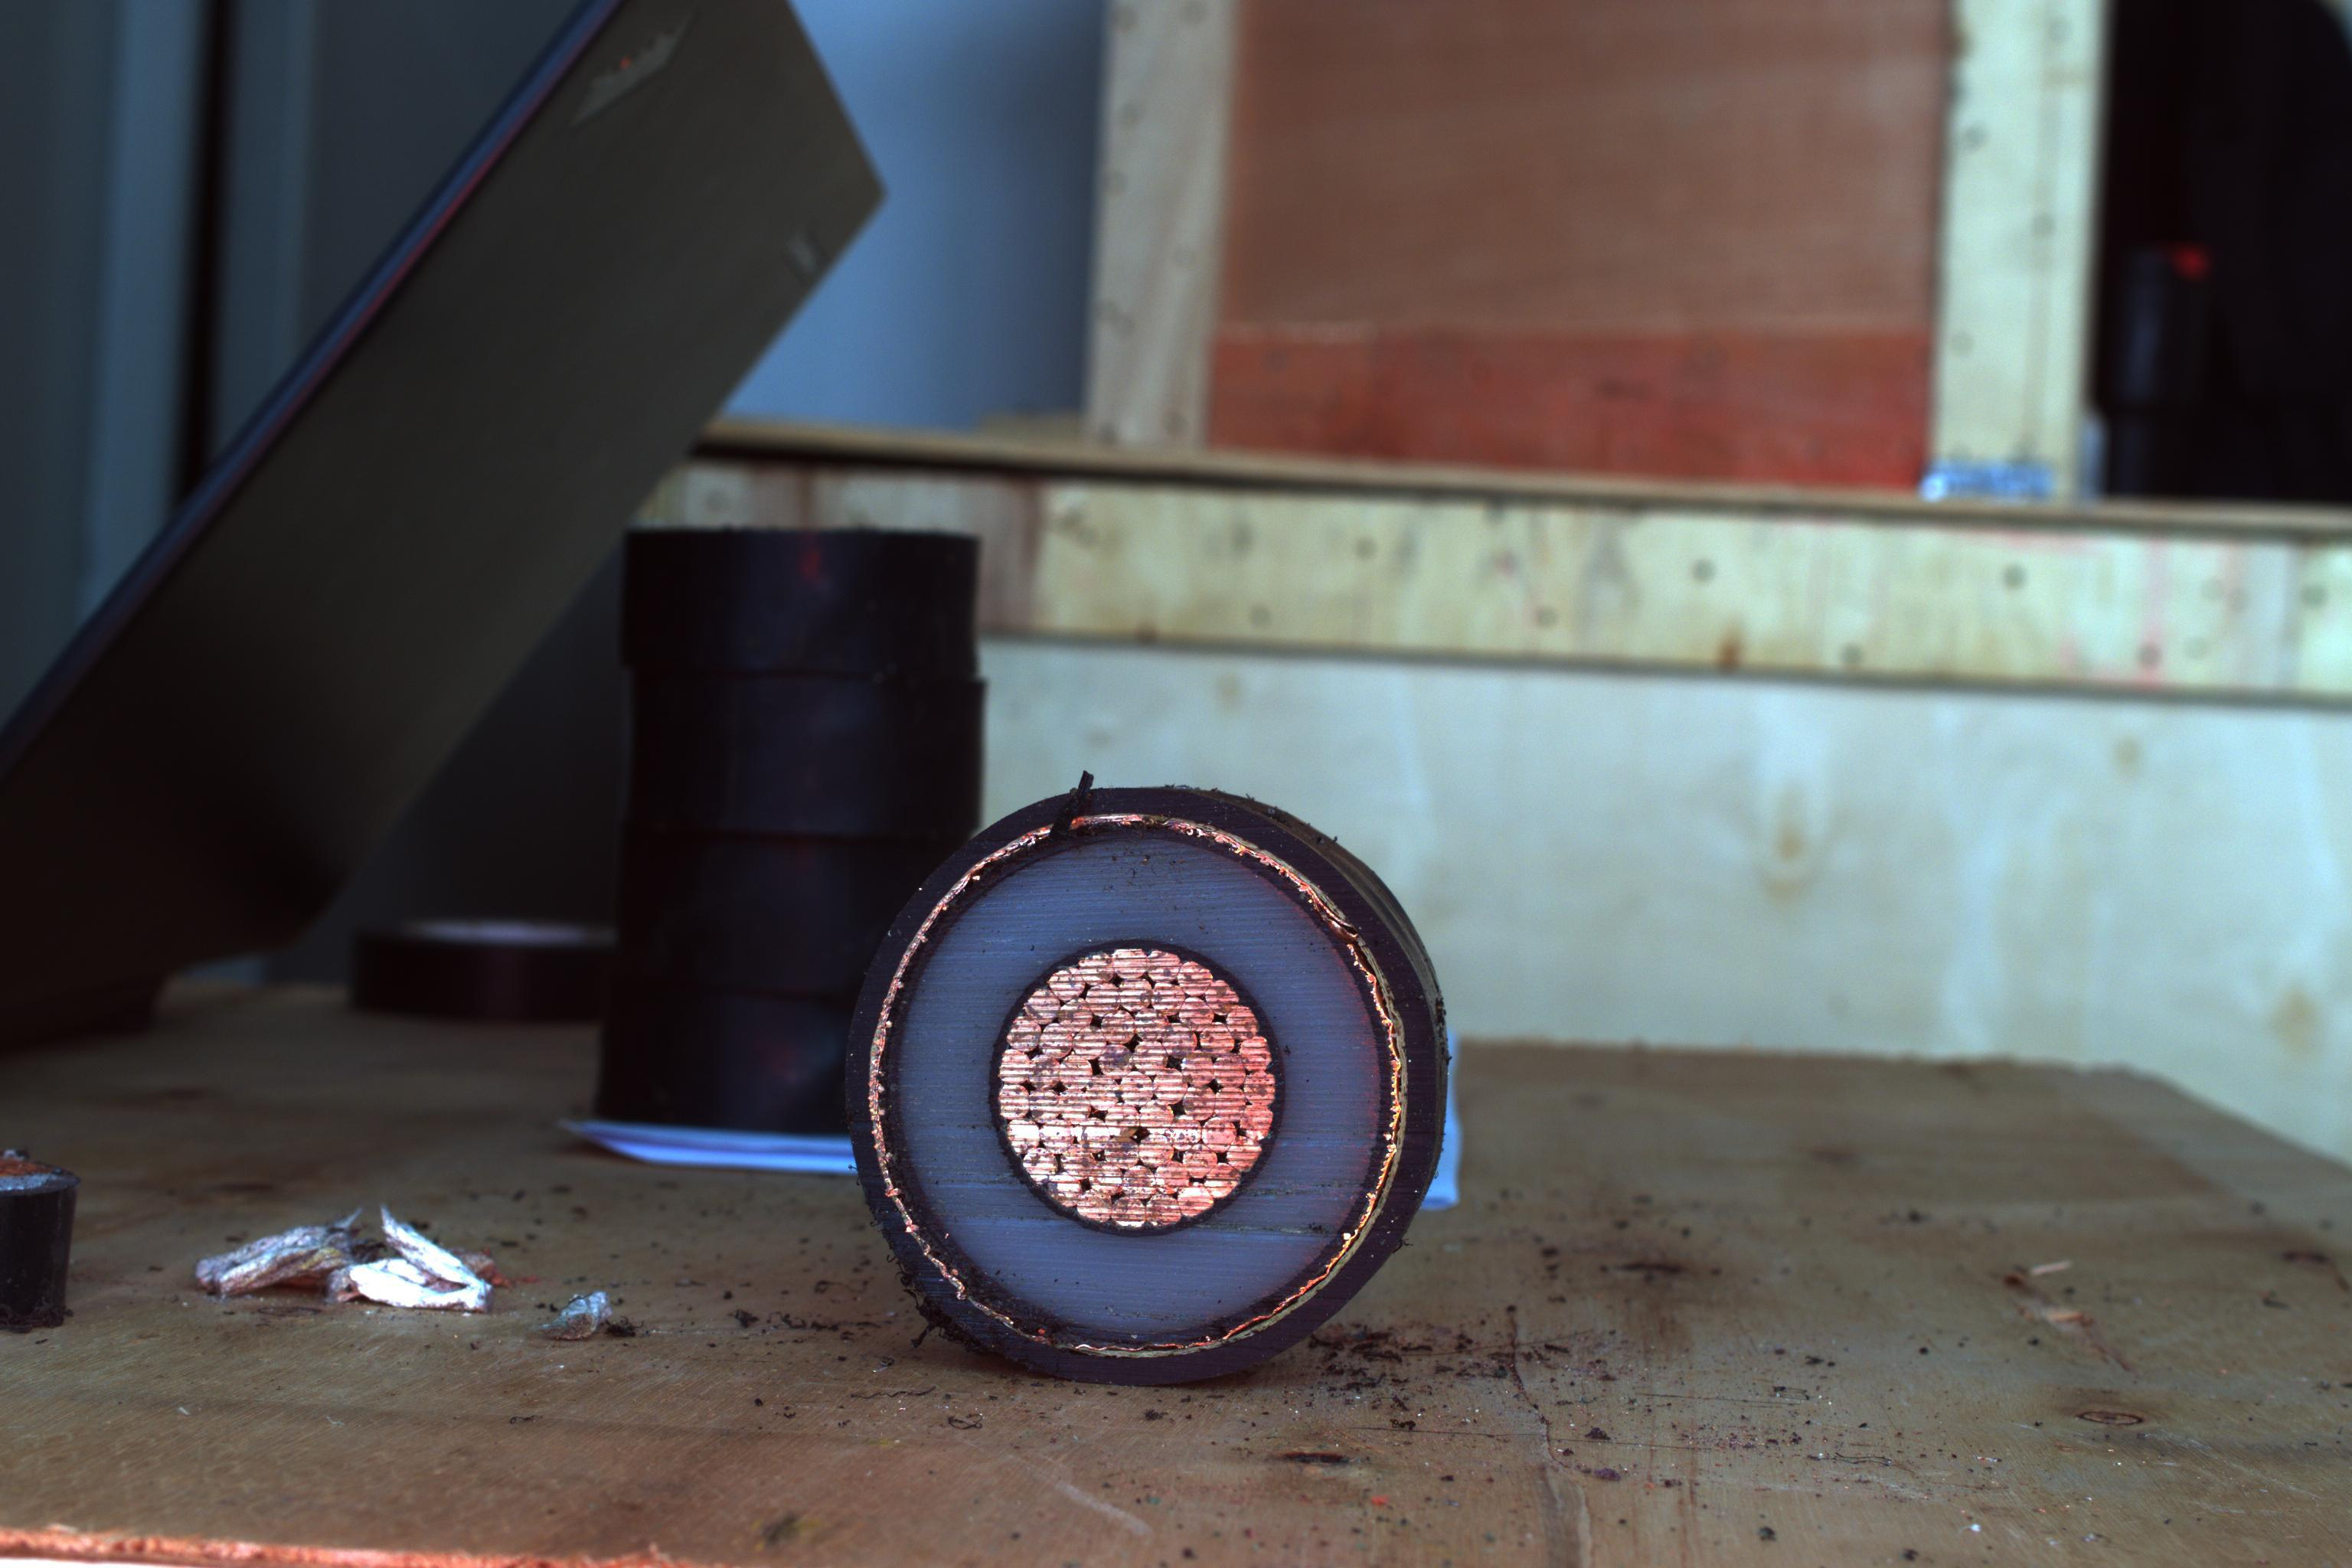YJV_26_35kV_1x630: (814, 777, 1475, 1405)
